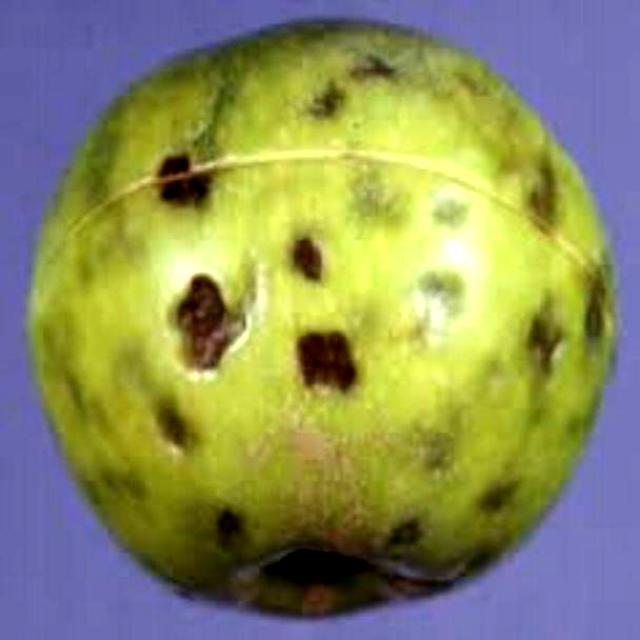BLOTCH: (15, 24, 630, 633)
